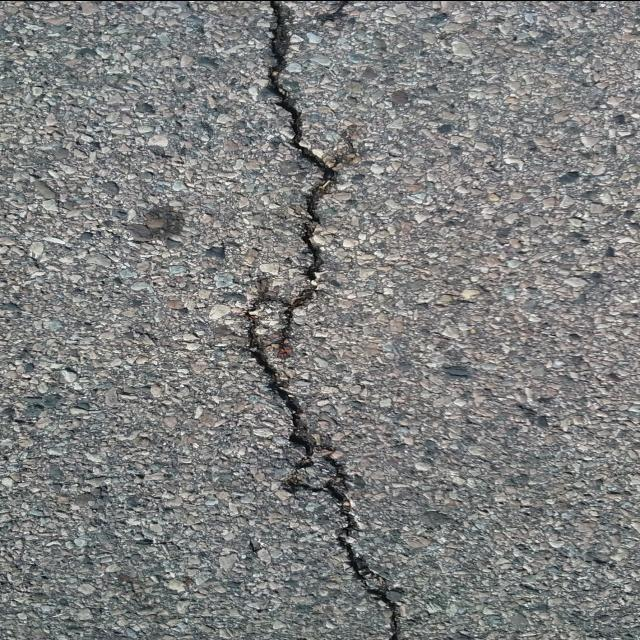Crack: (247, 0, 404, 640)
